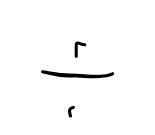div: (41, 41, 114, 118)
